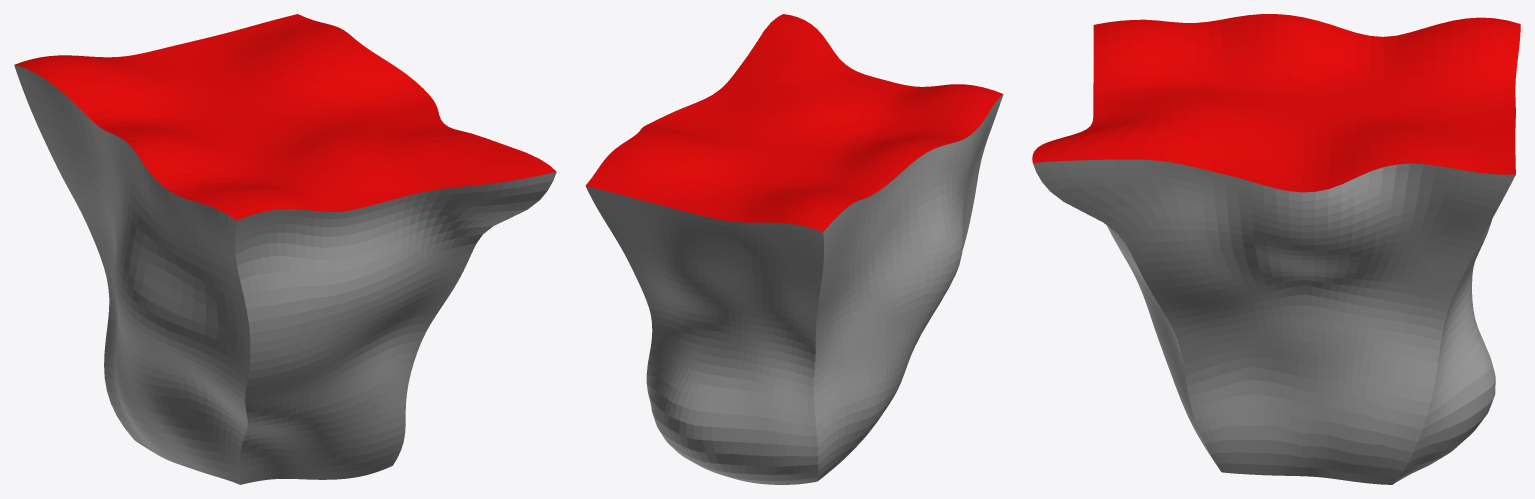
Rendered from Ground.fbx.
The picture shows the model from 3 angles, left to right: view 1: azimuth 30°, elevation 25°; view 2: azimuth 150°, elevation 25°; view 3: azimuth 270°, elevation 25°; orthographic projection. The views are drawn at different scales.
Parts seen in each view (by area): view 1: pCube1; view 2: pCube1; view 3: pCube1.
Part boxes in pixels (x1,y1,x2,y2): pCube1: (14,14,556,484); pCube1: (585,14,1003,484); pCube1: (1032,14,1520,484).
Size of the model in its own units: 26.86 by 29.03 by 35.66.
